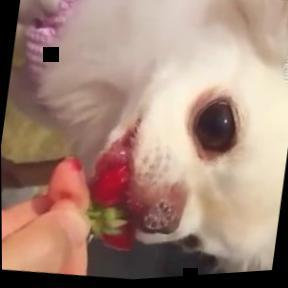nasal_discharge: (139, 199, 182, 239)
